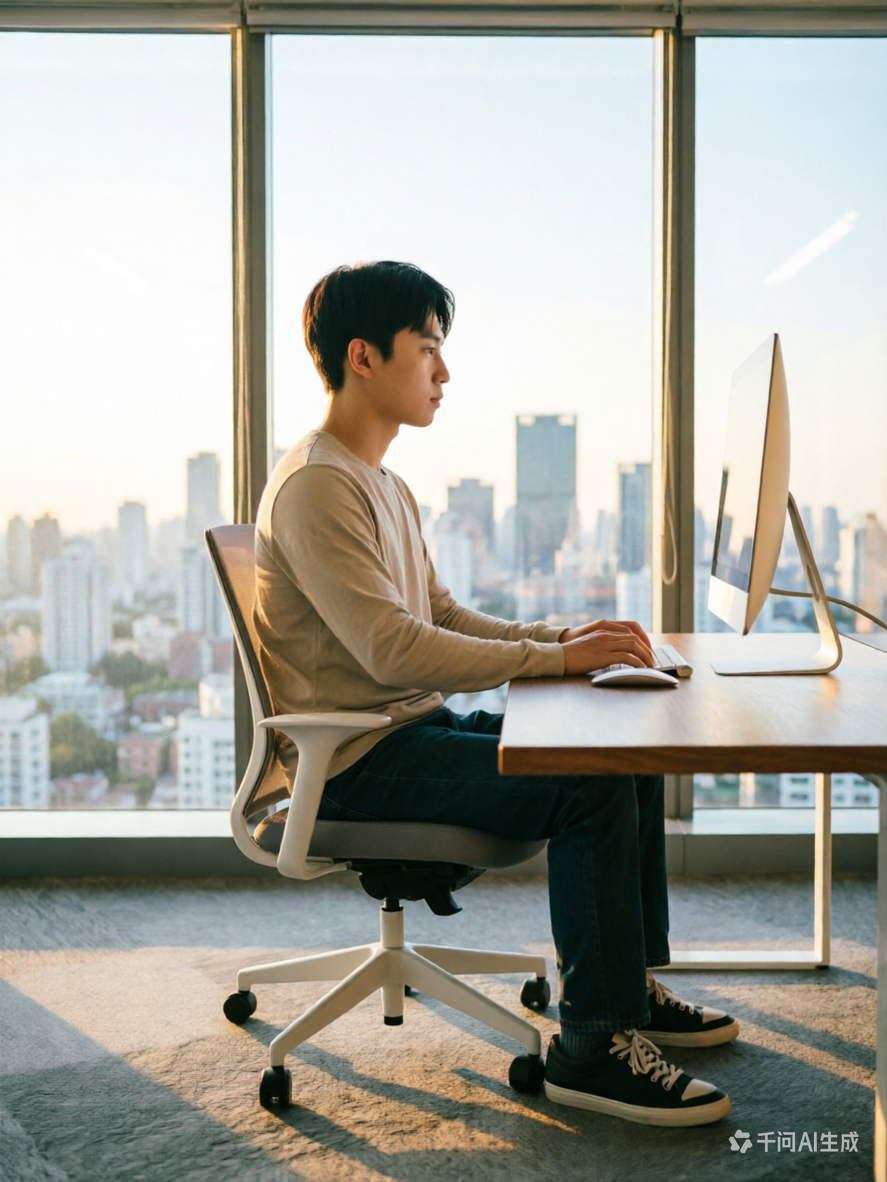sitting_good: (250, 270, 716, 1115)
